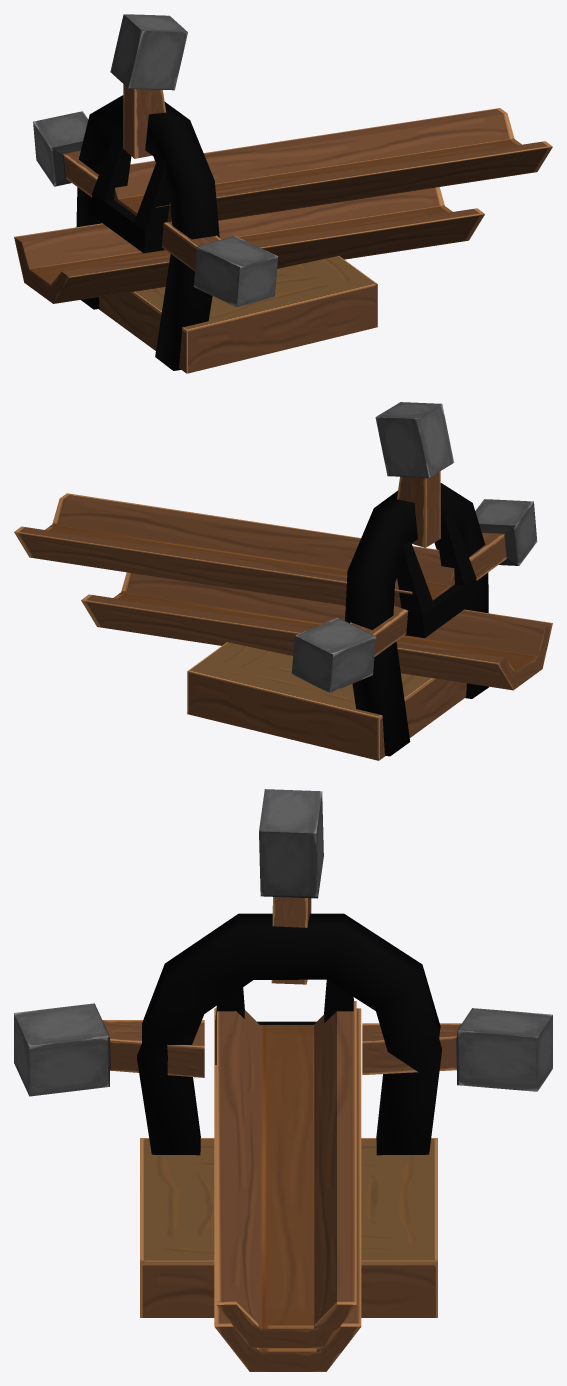
File: Level 3.FBX
3 renders of one model, top to bottom at view 1: azimuth 30°, elevation 25°; view 2: azimuth 150°, elevation 25°; view 3: azimuth 270°, elevation 25°, orthographic. The views are drawn at different scales.
Parts seen in each view (by area): view 1: Box203; view 2: Box203; view 3: Box203.
Boxes of the visible parts, x1,y1,x2,y2 form: Box203: (14, 14, 552, 373); Box203: (14, 402, 552, 760); Box203: (14, 789, 552, 1371).
Bounding box in the file's own units: 48.55 × 29.73 × 35.18.
